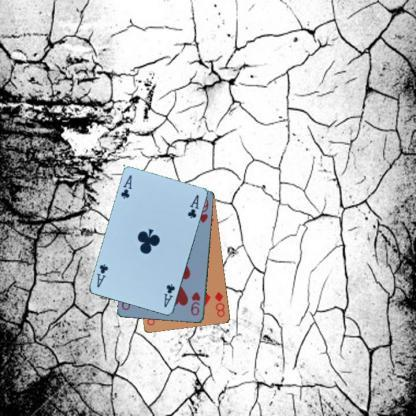8d: (212, 288, 226, 318)
9h: (188, 288, 202, 318)
Ac: (118, 172, 133, 200), (162, 282, 176, 309)
